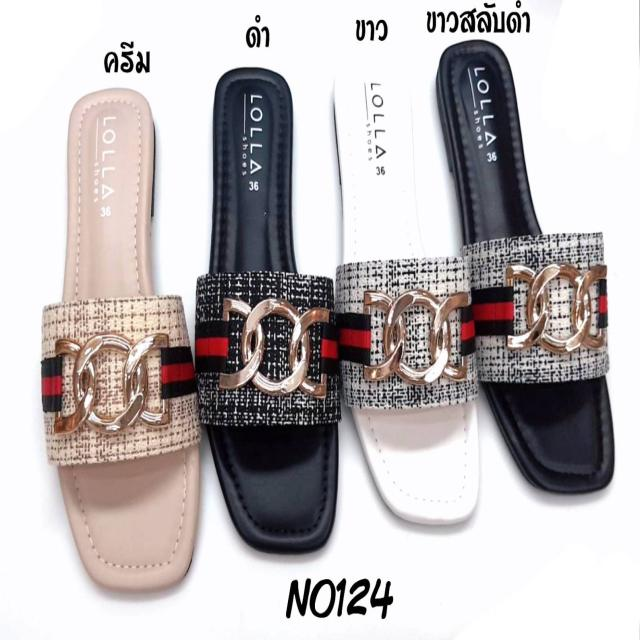black: (205, 39, 336, 553)
cream: (55, 88, 201, 592)
white: (331, 66, 489, 521)
white-black: (442, 50, 618, 489)
